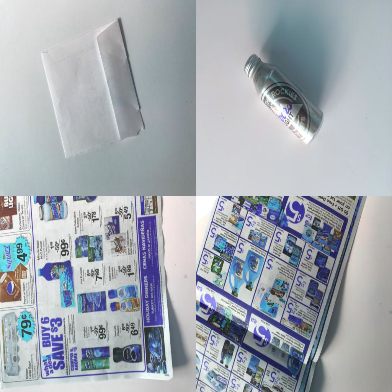metal: (245, 54, 325, 144)
paper: (196, 196, 365, 390), (1, 196, 174, 383), (40, 18, 146, 159)
